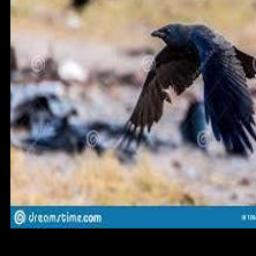Crow: (120, 22, 256, 159)
